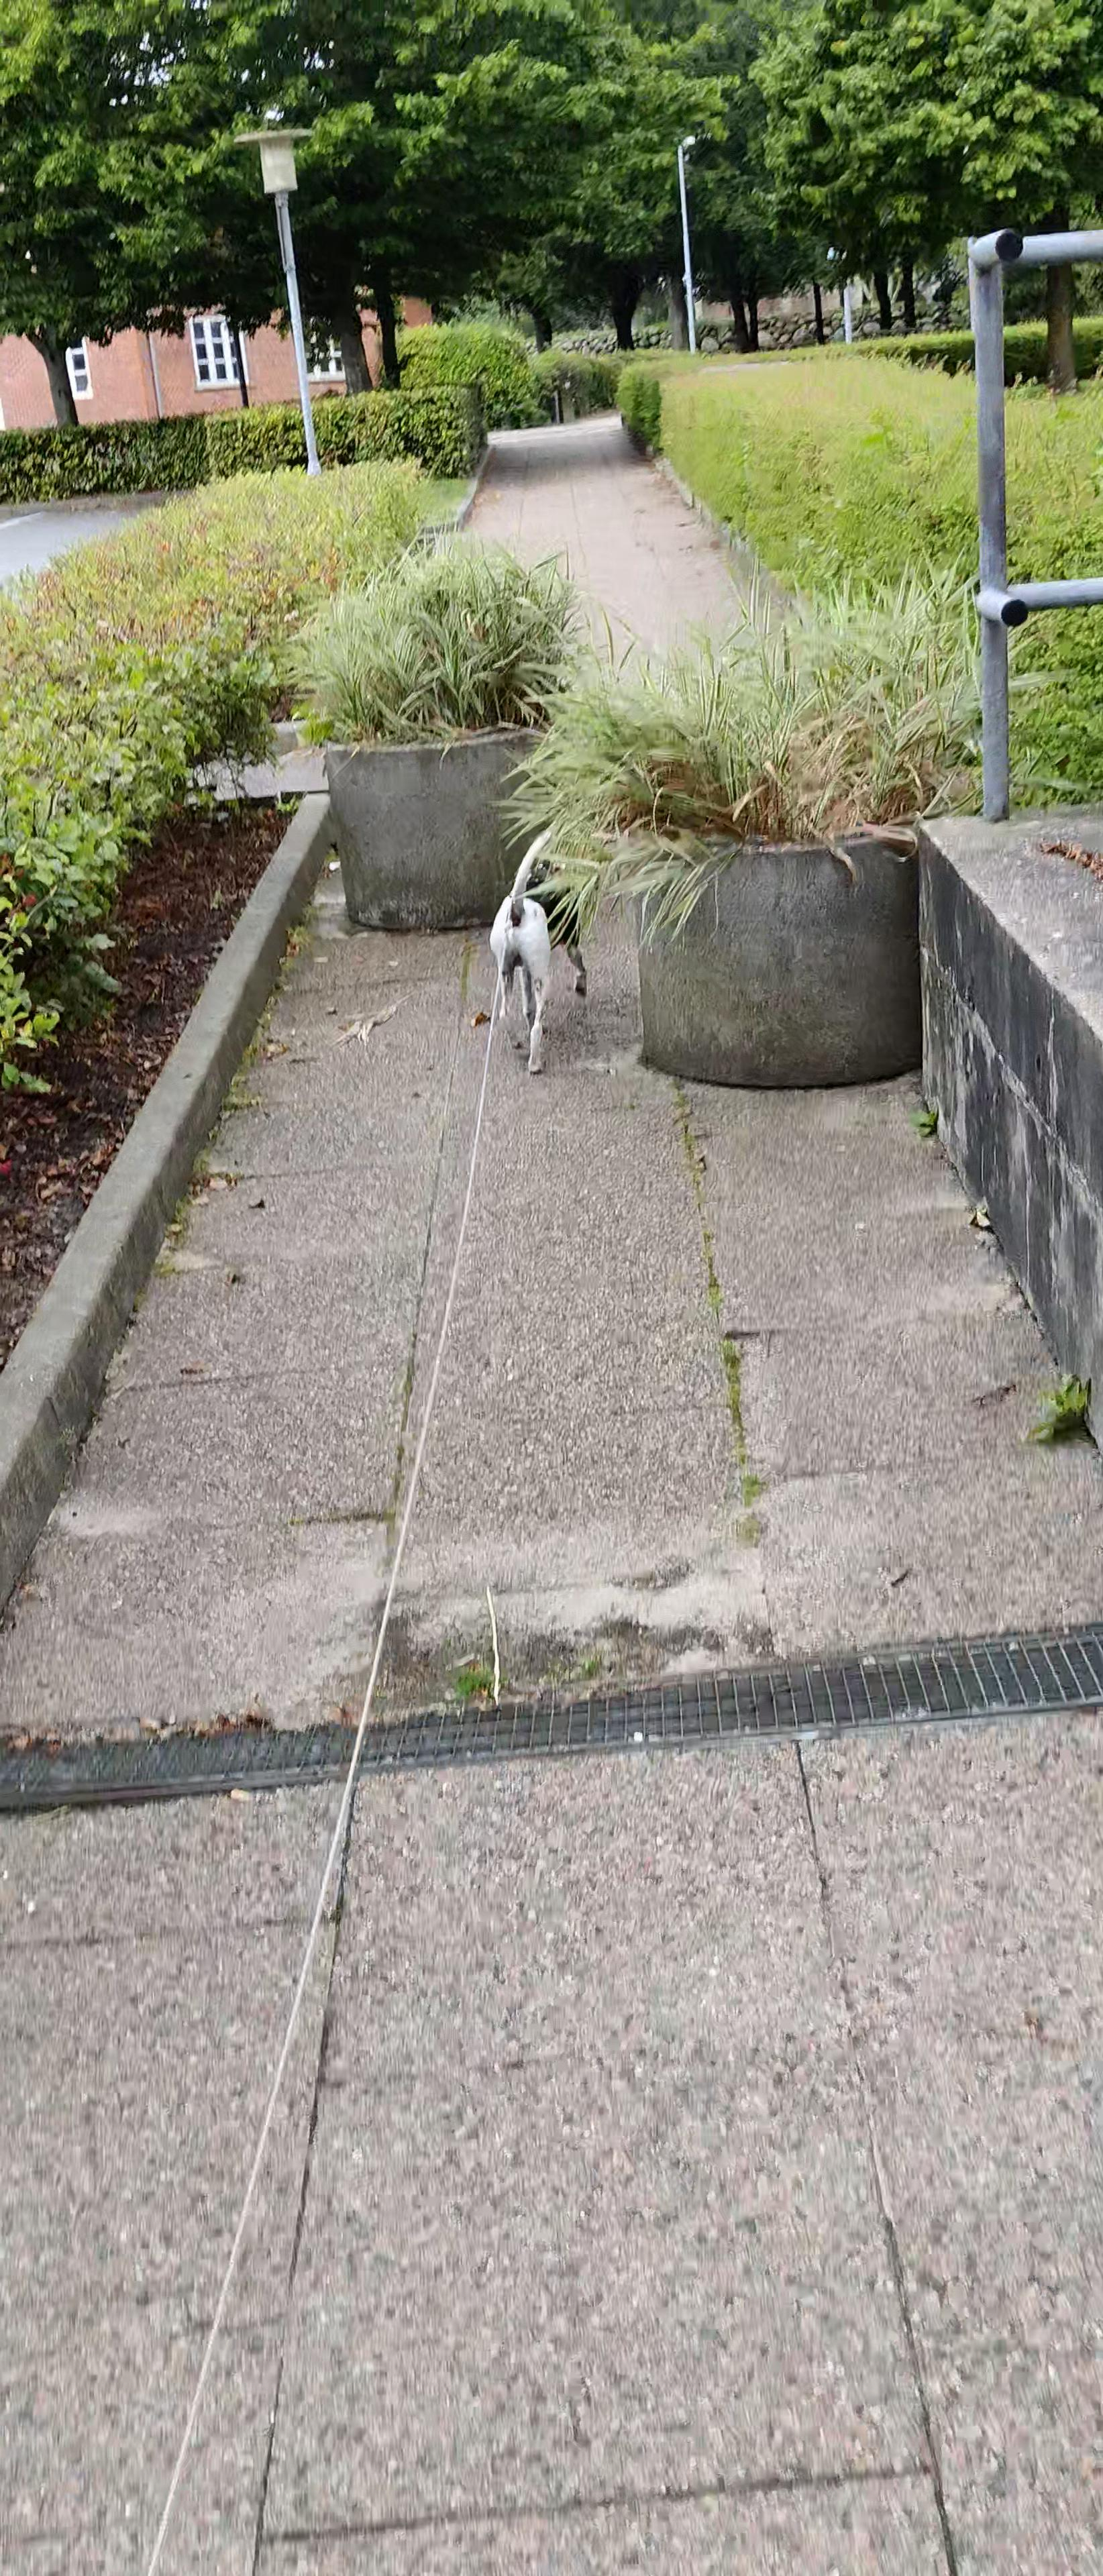Dog: (482, 820, 590, 1079)
